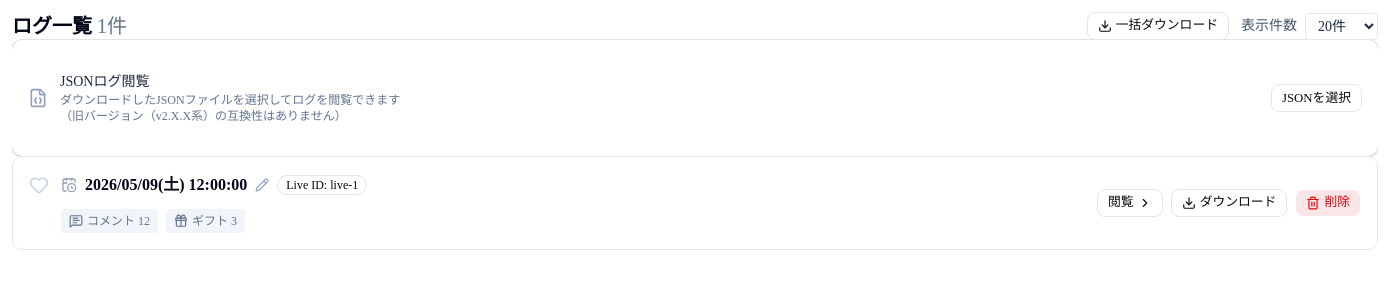
Scenario: LogListPage › タイトル保存APIがエラーを返した場合、タイトルは変わらない
This screenshot has width=1390, height=291.
Click the button named "タイトルを編集" at (262, 185), box [255, 178, 269, 192]
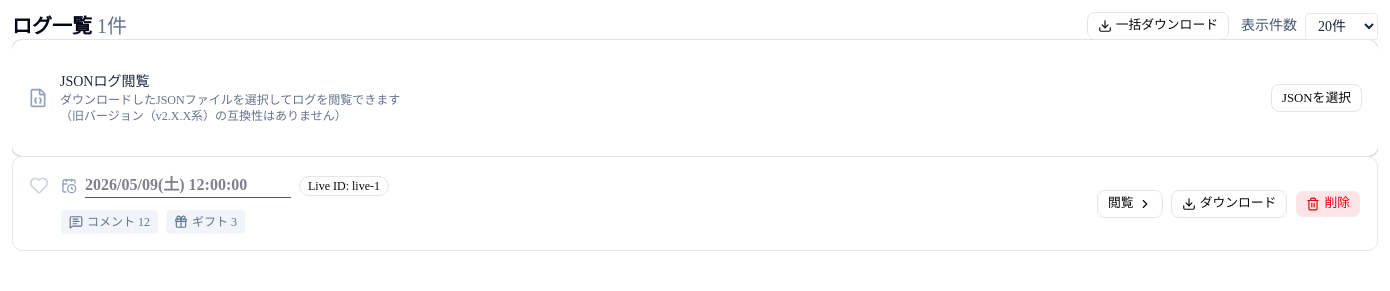
Type "新しいタイトル" into the field at (188, 186), box [85, 173, 291, 198]
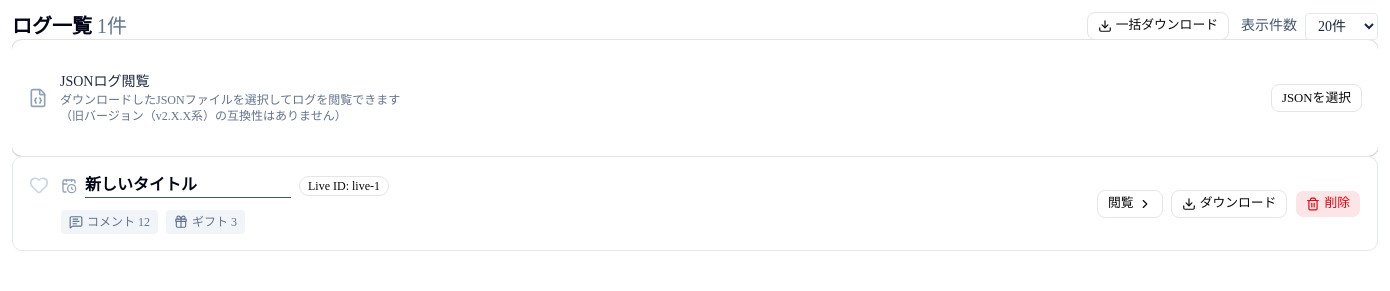
Leave the field, box [85, 173, 291, 198]
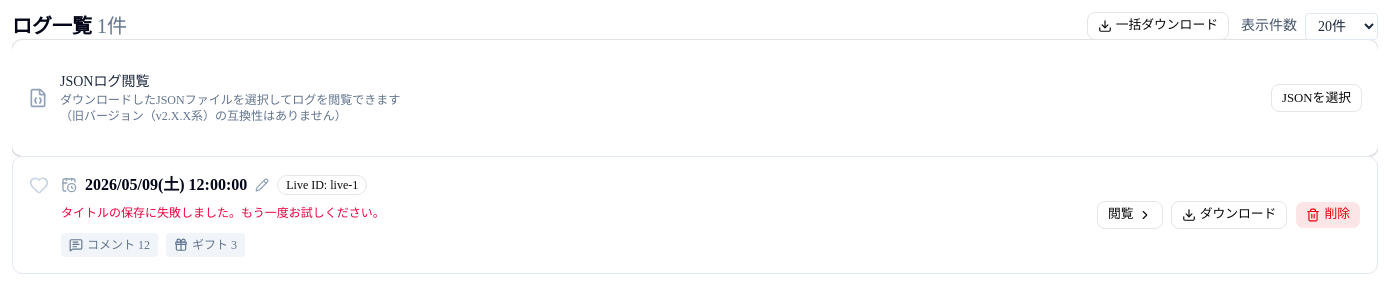
Expected: the text "新しいタイトル" is not shown
Now the text "2026/05/09(土) 12:00:00" is shown, box [85, 173, 247, 197]
